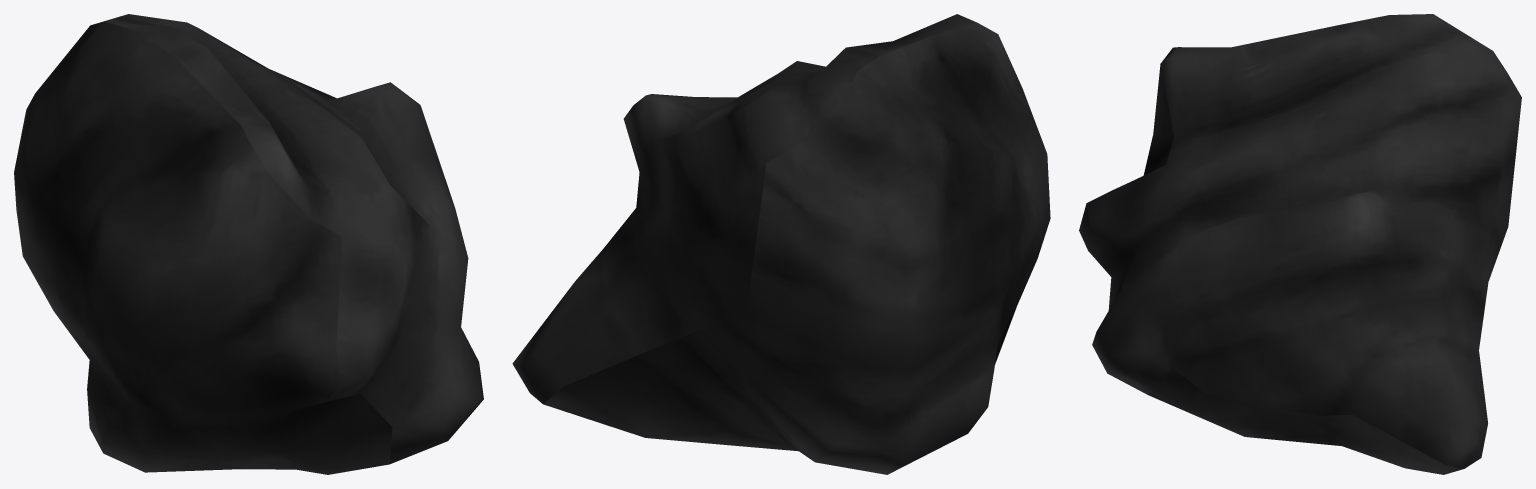
File: hq_metal_ore.worldmodel.glb
3 renders of one model, left to right at view 1: azimuth 30°, elevation 25°; view 2: azimuth 150°, elevation 25°; view 3: azimuth 270°, elevation 25°, orthographic. The views are drawn at different scales.
Parts seen in each view (by area): view 1: hqmetalOre_LOD0; view 2: hqmetalOre_LOD0; view 3: hqmetalOre_LOD0.
Part boxes in pixels (left/top/right/bottom): hqmetalOre_LOD0: left=14, top=14, right=483, bottom=474; hqmetalOre_LOD0: left=512, top=14, right=1050, bottom=474; hqmetalOre_LOD0: left=1079, top=14, right=1521, bottom=474.
Bounding box in the file's own units: 0.2873 × 0.267 × 0.2909.
Materials: 1 (1 with a texture image).
